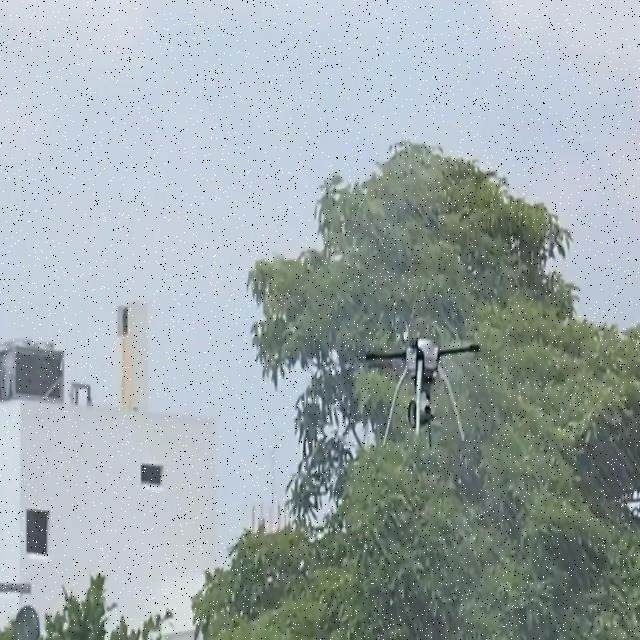UAV: (366, 338, 480, 448)
